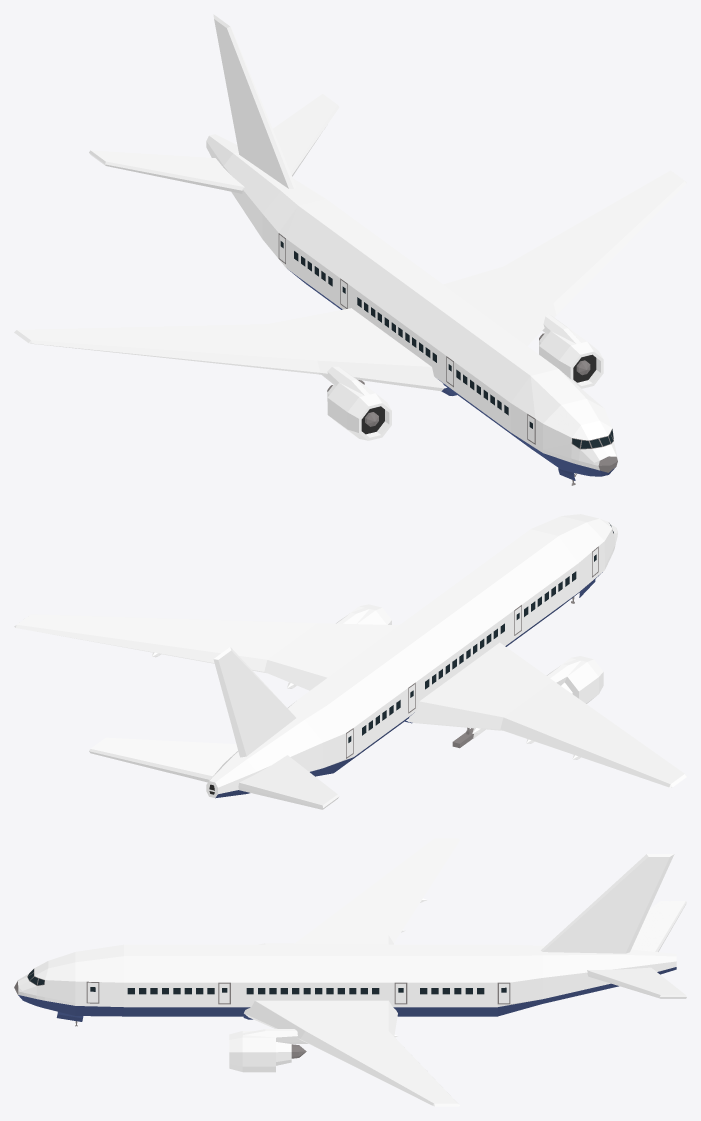
Rendered from plane-passenger-base.glb.
3 renders of one model, top to bottom at view 1: azimuth 30°, elevation 25°; view 2: azimuth 150°, elevation 25°; view 3: azimuth 270°, elevation 25°, orthographic. The views are drawn at different scales.
Visible parts, largest first — view 1: plane-passenger-base; view 2: plane-passenger-base; view 3: plane-passenger-base.
Part boxes in pixels (x1=…): plane-passenger-base: x1=14, y1=14, x2=686, y2=485; plane-passenger-base: x1=14, y1=514, x2=686, y2=809; plane-passenger-base: x1=14, y1=838, x2=686, y2=1106.
Bounding box in the file's own units: 60.97 × 18.39 × 64.92.
1 material, 1 textured.
